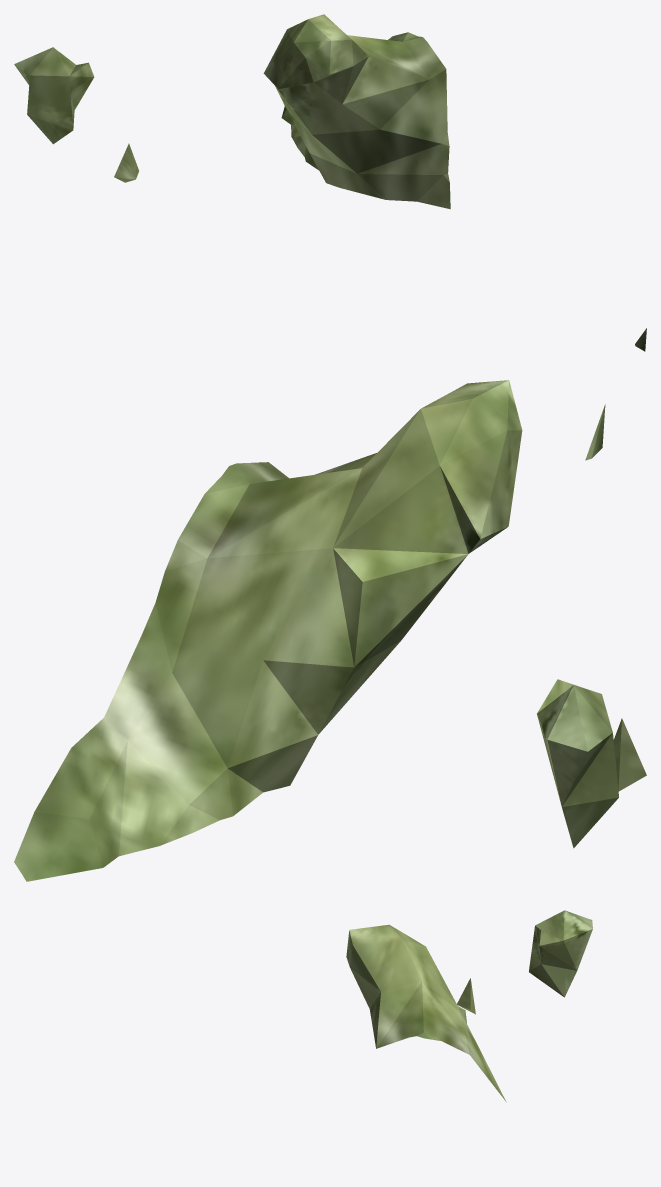
3 renders of one model, top to bottom at view 1: azimuth 30°, elevation 25°; view 2: azimuth 150°, elevation 25°; view 3: azimuth 270°, elevation 25°, orthographic. The views are drawn at different scales.
Bounding box in the file's own units: 1.08 × 0.6958 × 2.09.
1 material, 1 textured.
